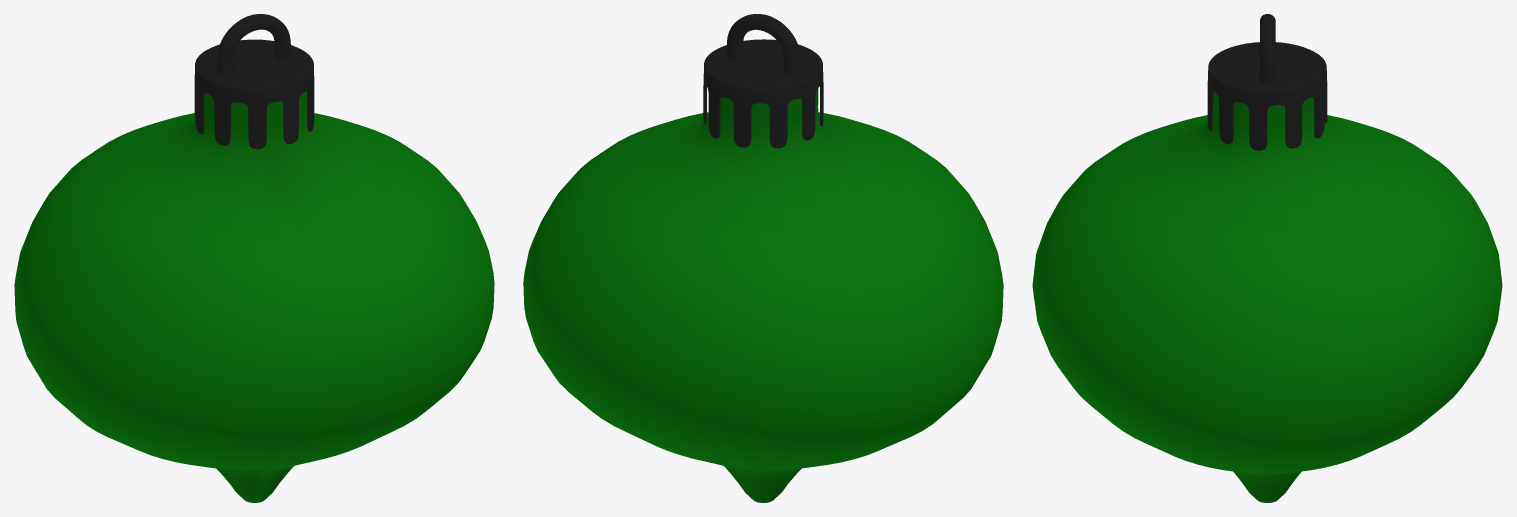
Rendered from GreenOrnamentBlank.gltf.
3 renders of one model, left to right at view 1: azimuth 30°, elevation 25°; view 2: azimuth 150°, elevation 25°; view 3: azimuth 270°, elevation 25°, orthographic.
Parts seen in each view (by area): view 1: ornament_3_blank.1; view 2: ornament_3_blank.1; view 3: ornament_3_blank.1.
Part boxes in pixels (bbox=[...]): ornament_3_blank.1: bbox=[14, 14, 494, 502]; ornament_3_blank.1: bbox=[523, 14, 1003, 502]; ornament_3_blank.1: bbox=[1032, 14, 1502, 502].
Size of the model in its own units: 0.0188 by 0.0209 by 0.0184.
Materials: 1 (1 with a texture image).
